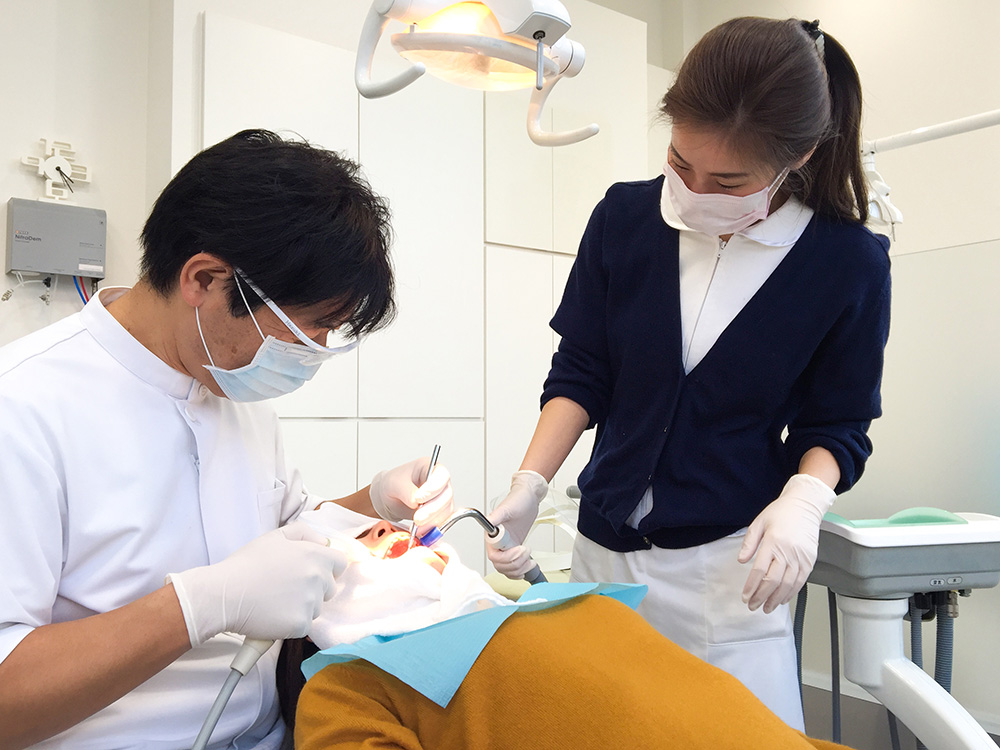mask: (207, 335, 327, 400), (661, 168, 769, 232)
